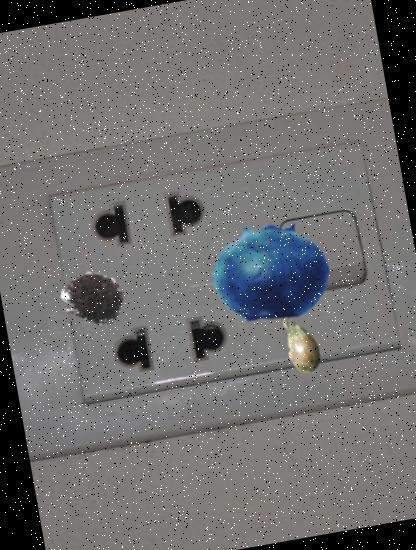Cactus: (266, 309, 336, 379)
Huckleberry: (203, 204, 339, 340)
Rambutan: (57, 258, 130, 331)
